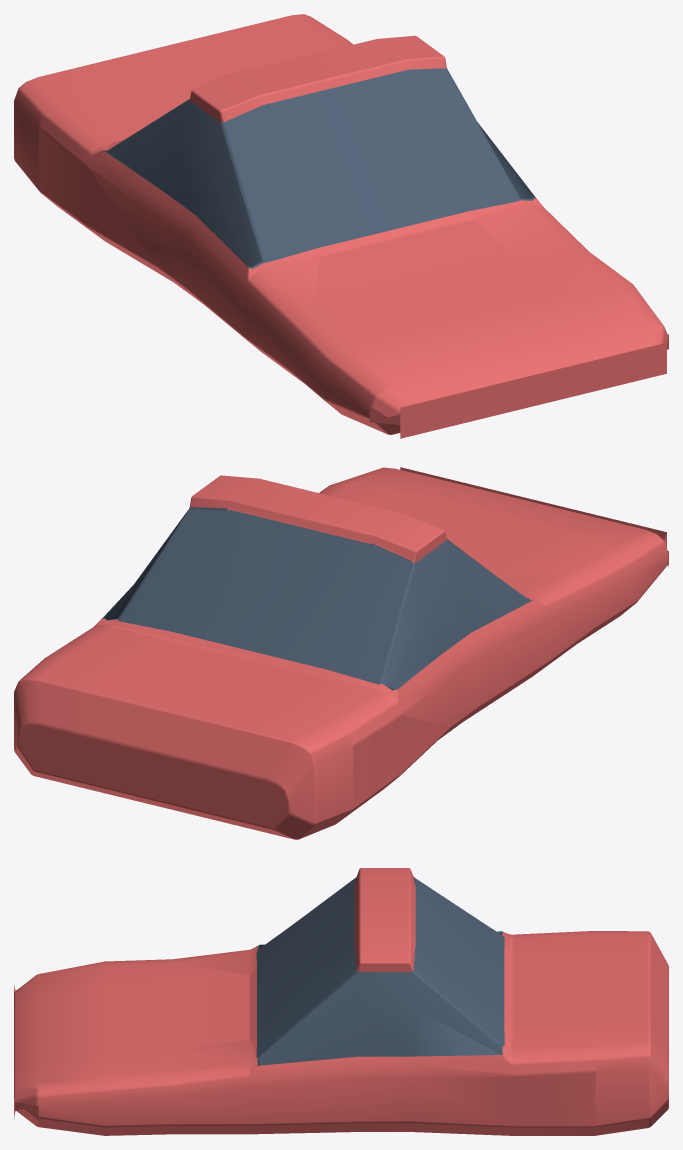
File: kilat_shell.fbx
3 views of the same model, one above another, from view 1: azimuth 30°, elevation 25°; view 2: azimuth 150°, elevation 25°; view 3: azimuth 270°, elevation 25° (orthographic). The views are drawn at different scales.
Parts seen in each view (by area): view 1: ShellBody, ShellGlass; view 2: ShellBody, ShellGlass; view 3: ShellBody, ShellGlass.
Boxes of the visible parts, left/top/right/bottom form: ShellBody: left=14, top=14, right=668, bottom=438; ShellGlass: left=104, top=68, right=535, bottom=268; ShellBody: left=14, top=467, right=668, bottom=839; ShellGlass: left=103, top=507, right=533, bottom=690; ShellBody: left=14, top=868, right=668, bottom=1135; ShellGlass: left=256, top=877, right=504, bottom=1065.
Bounding box in the file's own units: 7.4 × 4.4 × 15.5.
